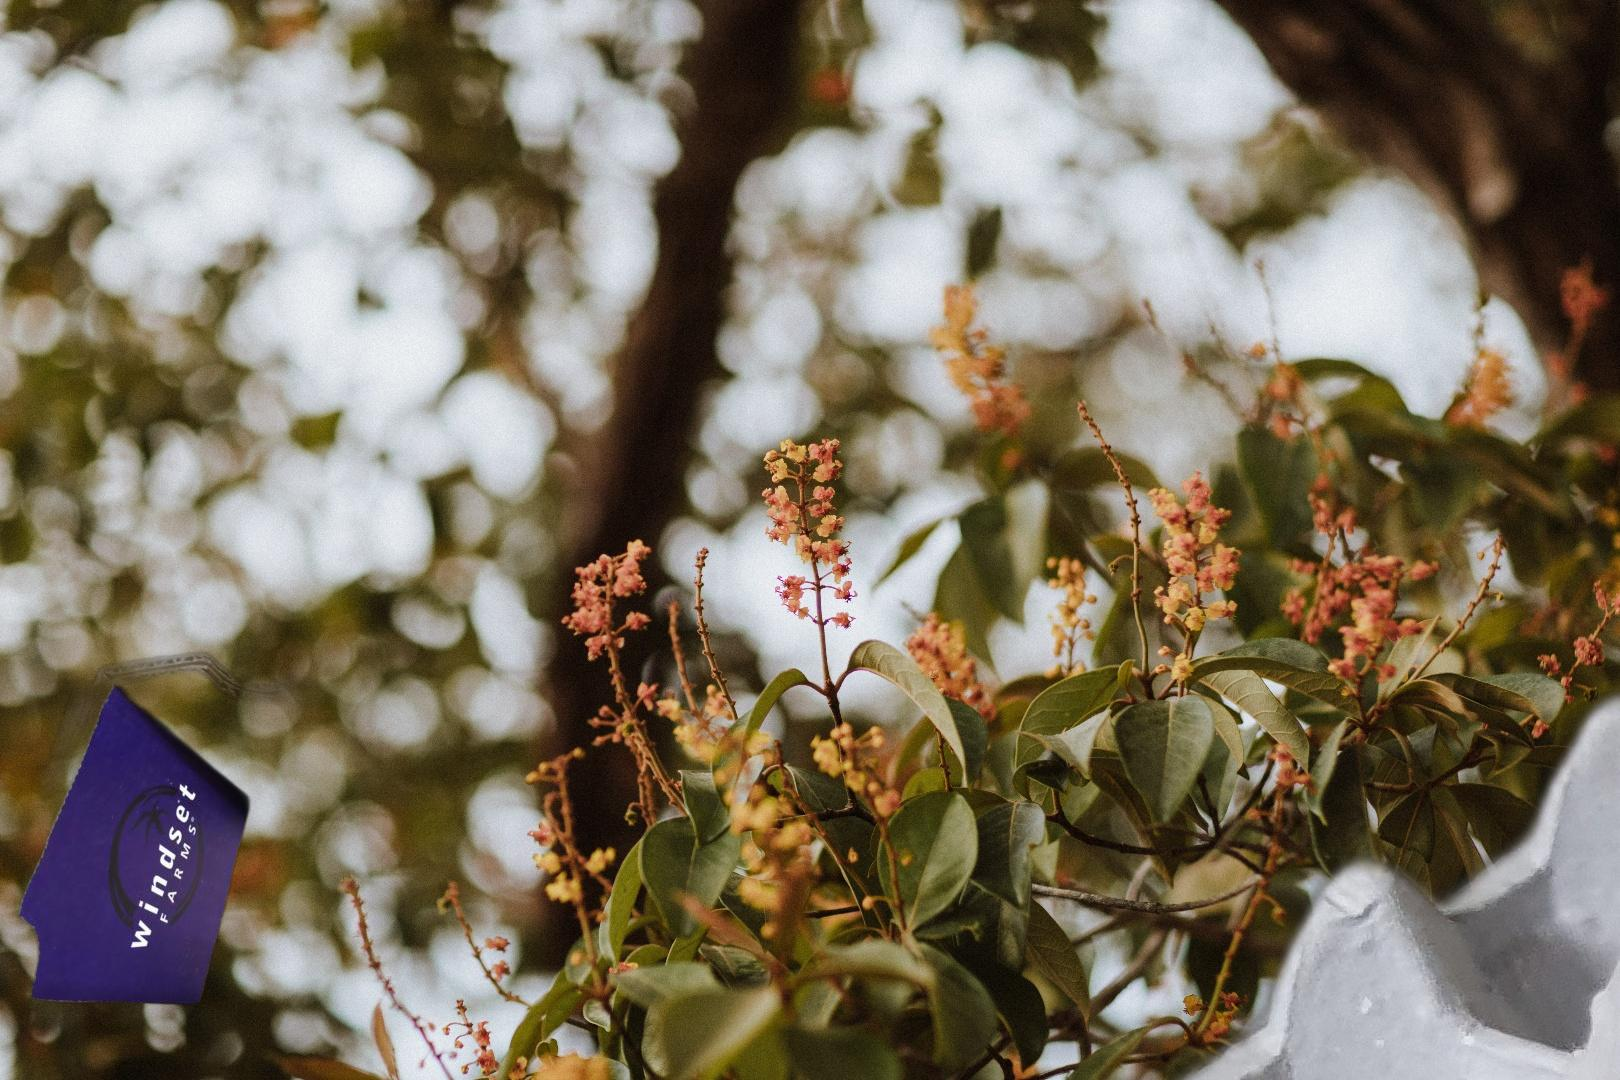metal-cans: (1485, 1009, 1620, 1080)
trashbox-cardboard: (1100, 415, 1620, 1080), (16, 630, 479, 1008)
